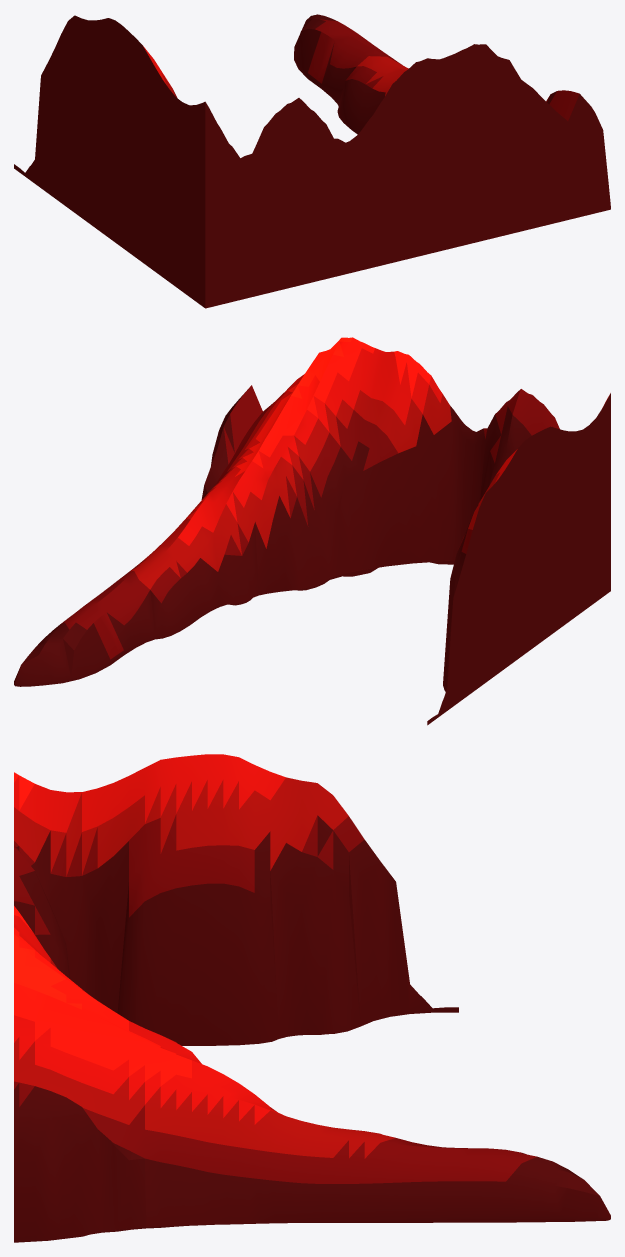
Rendered from core_fire_44.glb.
The picture shows the model from 3 angles, top to bottom: view 1: azimuth 30°, elevation 25°; view 2: azimuth 150°, elevation 25°; view 3: azimuth 270°, elevation 25°; orthographic projection. The views are drawn at different scales.
Visible parts, largest first — view 1: core_fire_44_fire; view 2: core_fire_44_fire; view 3: core_fire_44_fire.
Boxes of the visible parts, x1,y1,x2,y2 form: core_fire_44_fire: [14, 14, 610, 308]; core_fire_44_fire: [14, 337, 610, 725]; core_fire_44_fire: [14, 754, 610, 1242].
Bounding box in the file's own units: 20.8 × 11.19 × 22.81.
